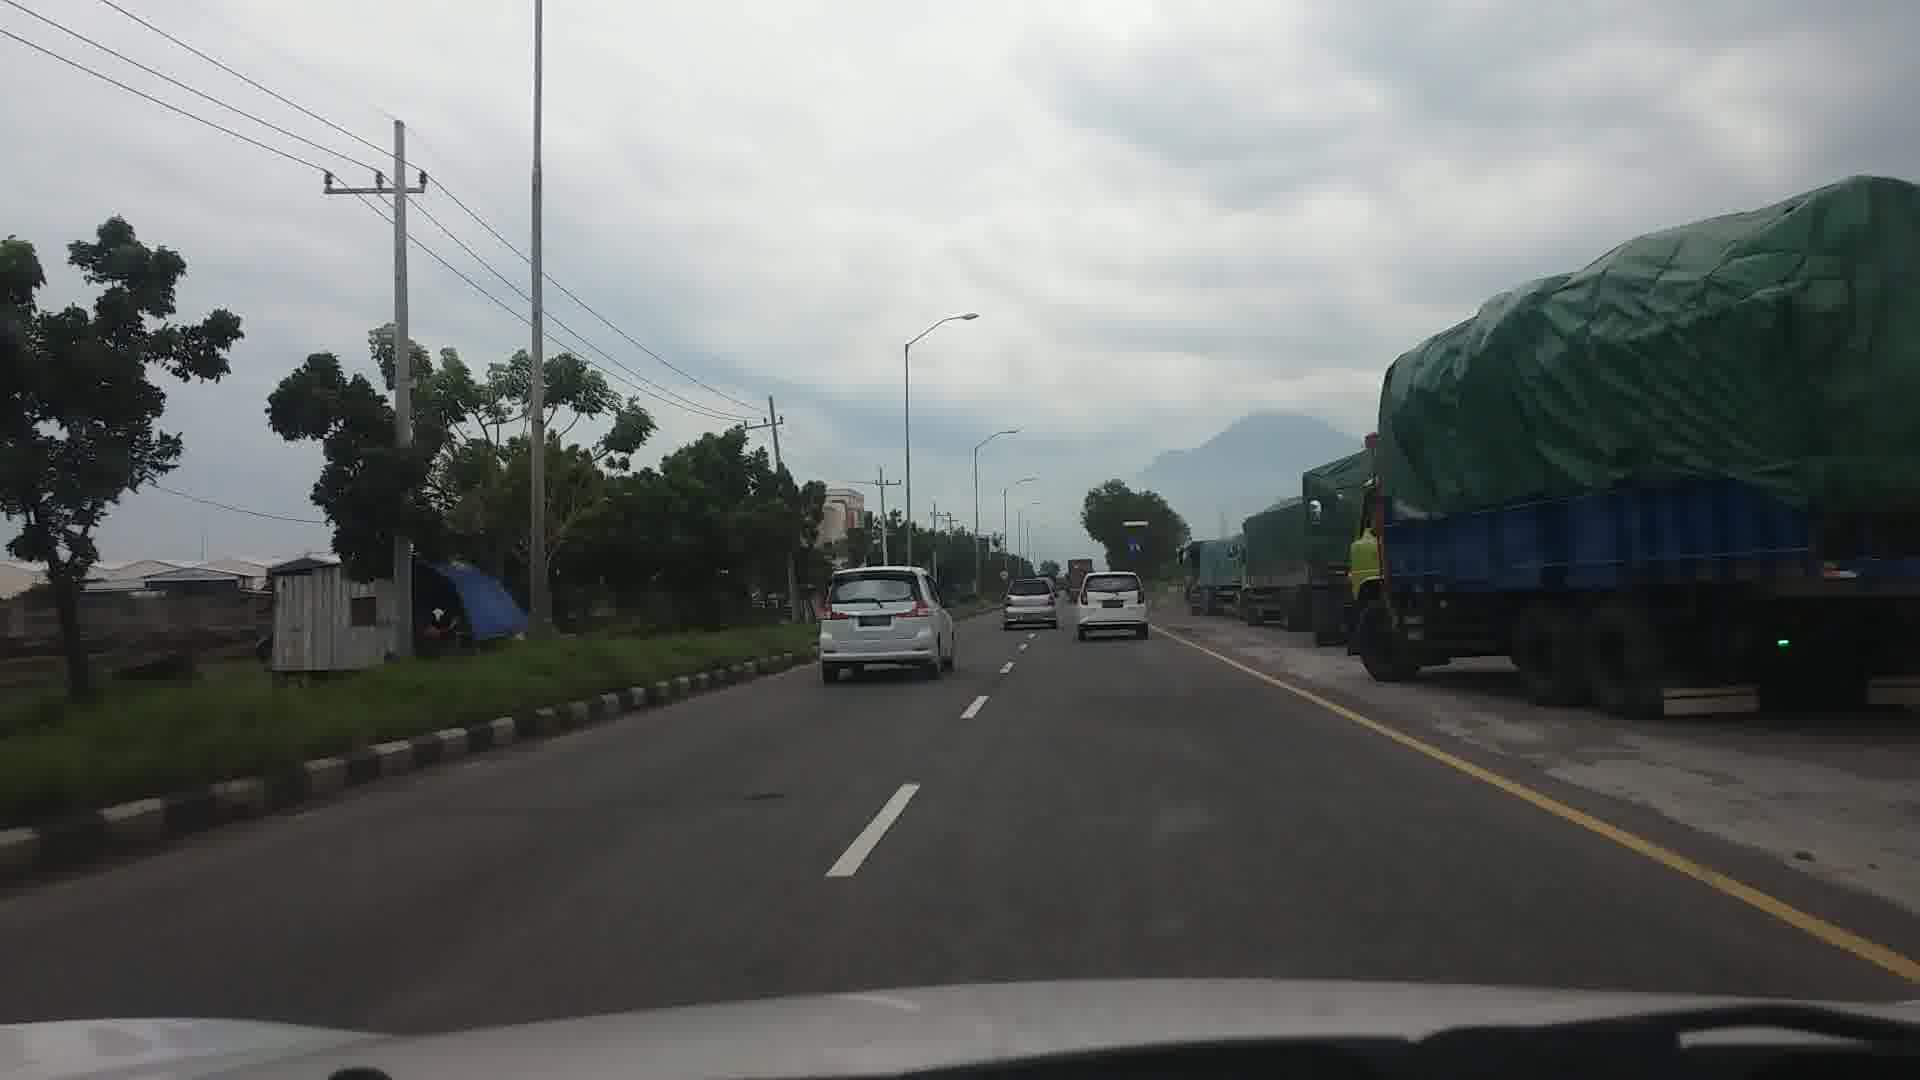plate_positive: (858, 615, 891, 626), (1101, 601, 1124, 608)
